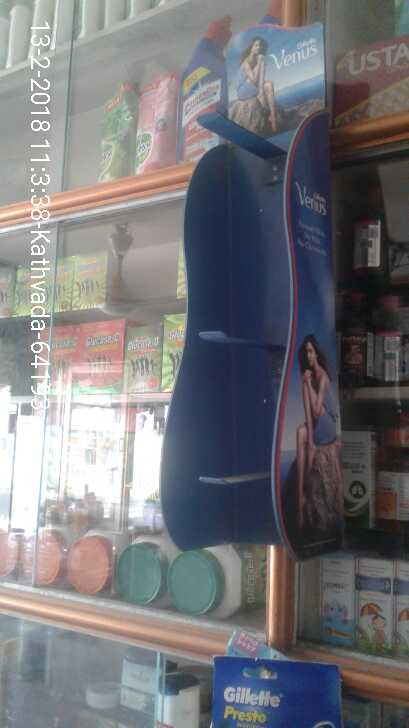reject: (178, 273, 269, 363)
